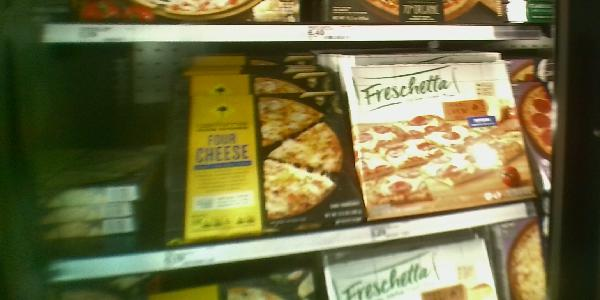pizza: (169, 55, 364, 238), (347, 60, 537, 221)
pizza1: (31, 221, 134, 240), (32, 203, 132, 220), (37, 186, 140, 201)
